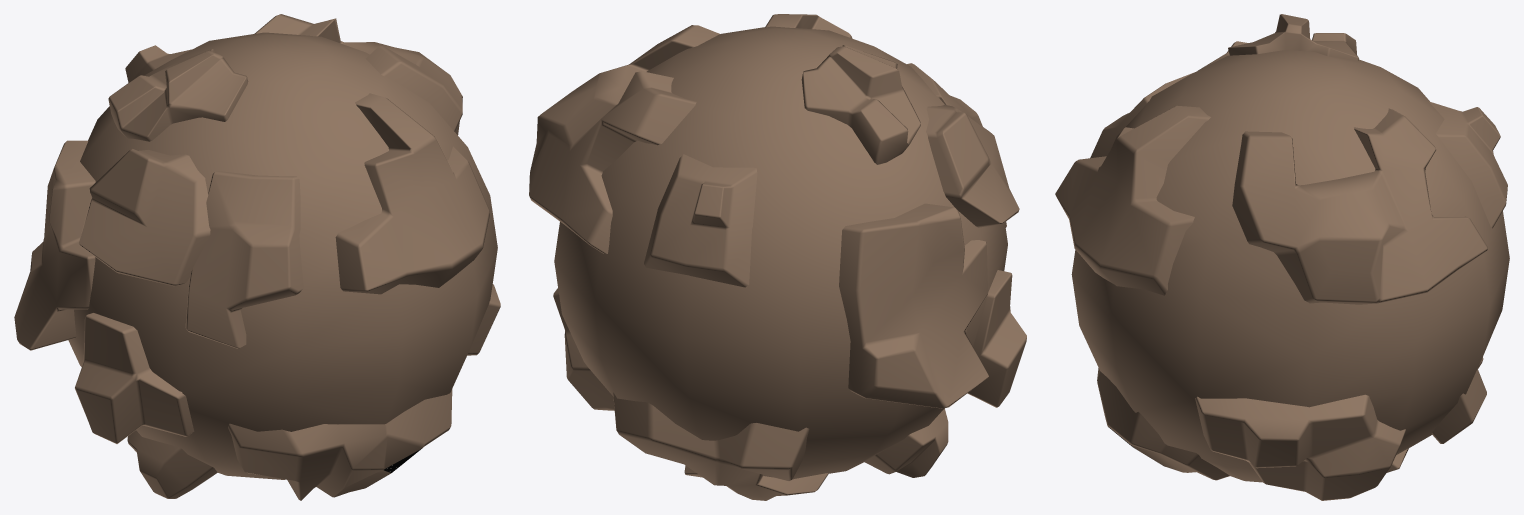
The model's file is _Planet.fbx.
The picture shows the model from 3 angles, left to right: view 1: azimuth 30°, elevation 25°; view 2: azimuth 150°, elevation 25°; view 3: azimuth 270°, elevation 25°; orthographic projection. The views are drawn at different scales.
Parts seen in each view (by area): view 1: Planet; view 2: Planet; view 3: Planet.
Boxes of the visible parts, <box> form: Planet: <box>14,14,500,500</box>; Planet: <box>529,14,1026,500</box>; Planet: <box>1055,14,1509,500</box>.
Size of the model in its own units: 3026 by 2903 by 2818.
1 material, 1 textured.
